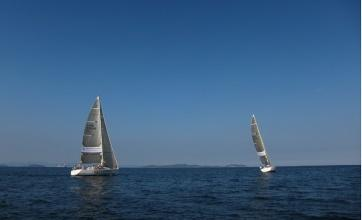fanchuan: (70, 92, 128, 180), (248, 109, 283, 175)
